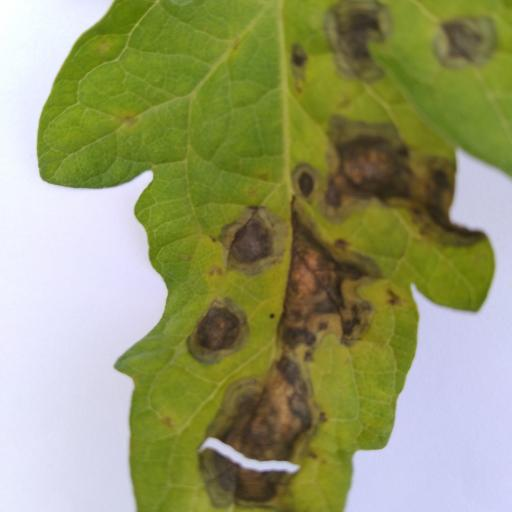disease_tomato: (36, 0, 512, 512)
